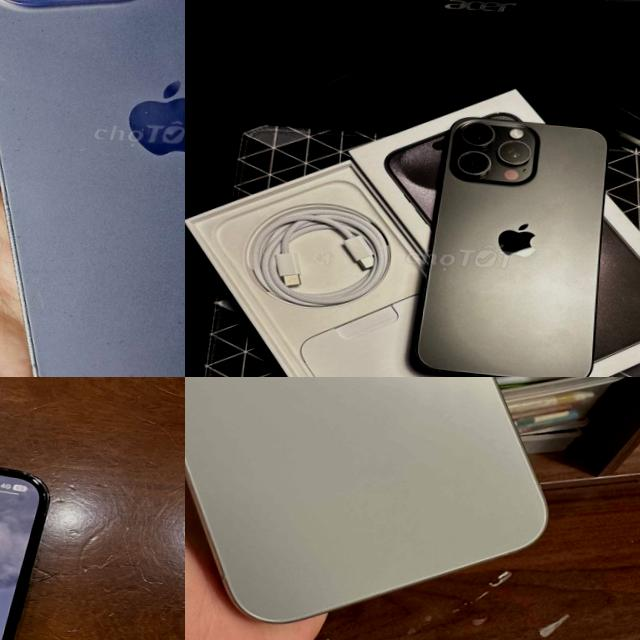gen_12_13: (0, 438, 51, 640)
gen_14: (0, 0, 185, 377)
gen_15: (185, 377, 588, 639), (396, 94, 626, 377)
